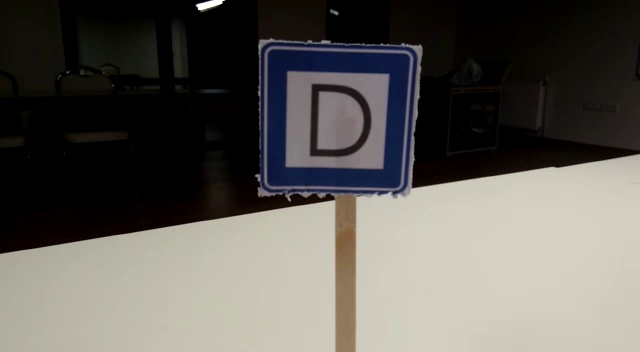durak: (259, 45, 418, 194)
